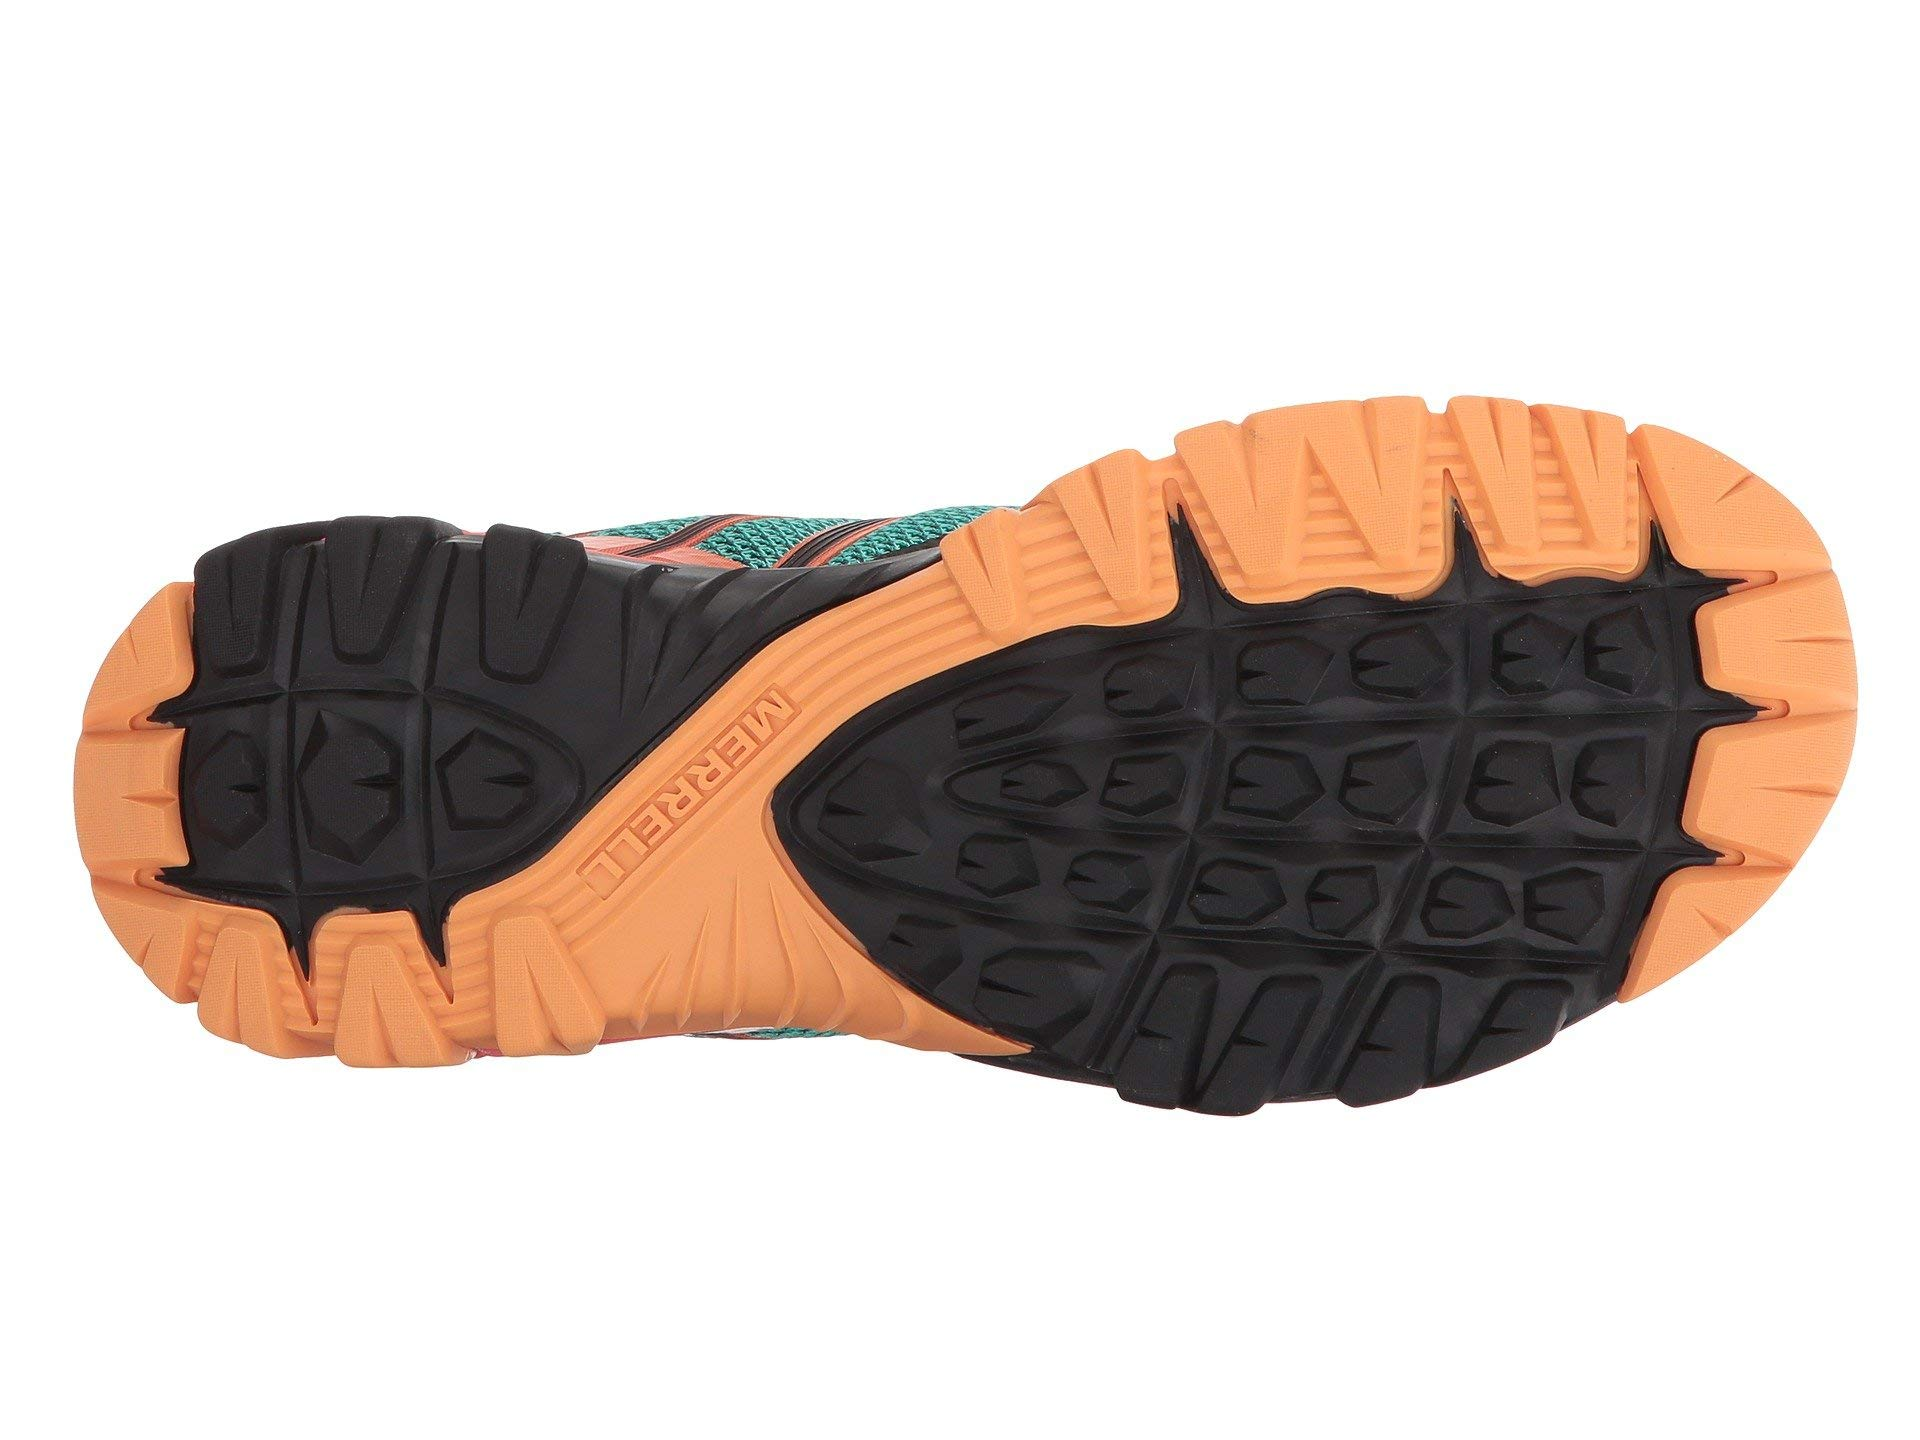line: (553, 641, 788, 923)
text: (553, 641, 788, 923)
